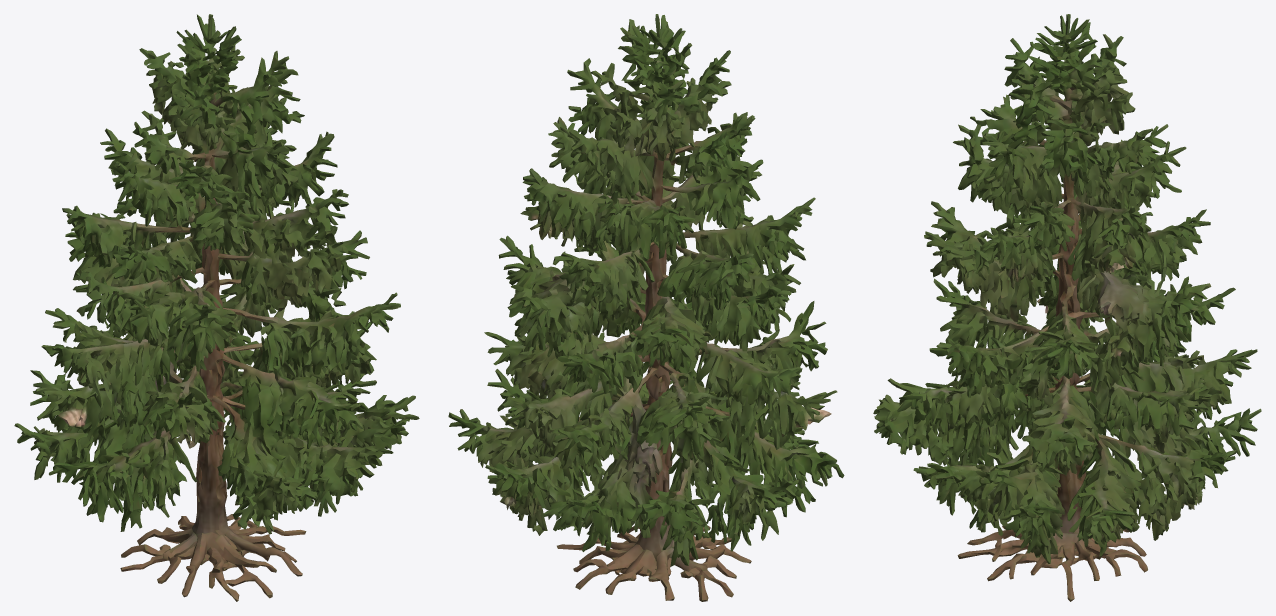
Rendered from alpine-spruce.glb.
The picture shows the model from 3 angles, left to right: view 1: azimuth 30°, elevation 25°; view 2: azimuth 150°, elevation 25°; view 3: azimuth 270°, elevation 25°; orthographic projection. The views are drawn at different scales.
Visible parts, largest first — view 1: geometry_0; view 2: geometry_0; view 3: geometry_0.
Part boxes in pixels (left/top/right/bottom): geometry_0: left=14, top=14, right=419, bottom=601; geometry_0: left=448, top=14, right=844, bottom=601; geometry_0: left=873, top=14, right=1261, bottom=601.
Size of the model in its own units: 2.35 by 3.5 by 2.27.
Materials: 1 (1 with a texture image).
